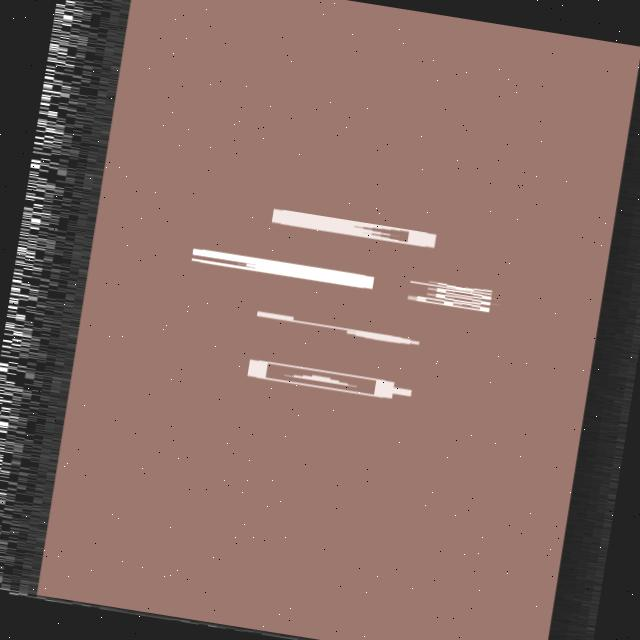QLabel: (408, 278, 494, 314)
VBottomNavigation: (17, 0, 640, 640)
VIcon: (178, 245, 392, 294), (234, 356, 421, 406), (243, 307, 437, 351), (262, 206, 446, 252)
